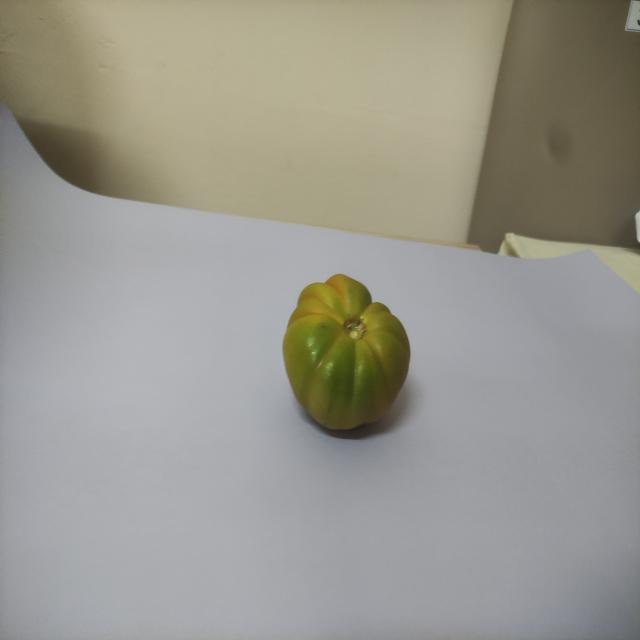unripe tomato: (278, 264, 422, 444)
